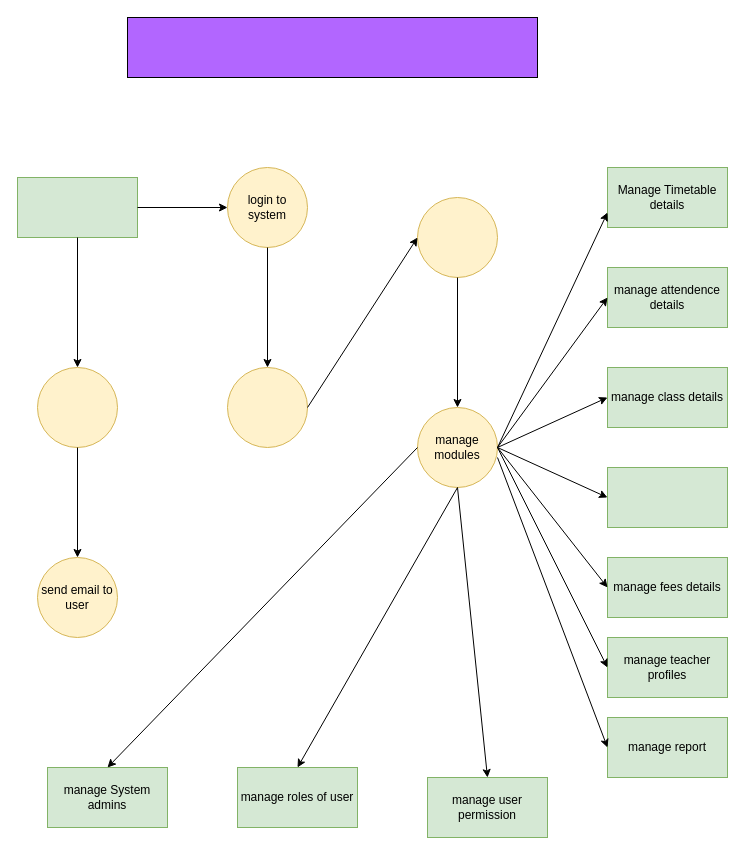
The diagram is 745 pixels wide and 855 high, and some of its shapes have lost their labels. The shapes that lost their labels are listed below. From the top down, each one's centre as x and y in pixels, then its label:
pixel 332 47: Student Information system
pixel 77 207: Admin
pixel 457 237: check roles of access
pixel 77 407: forget password
pixel 267 407: check credintials
pixel 667 497: manage student details
